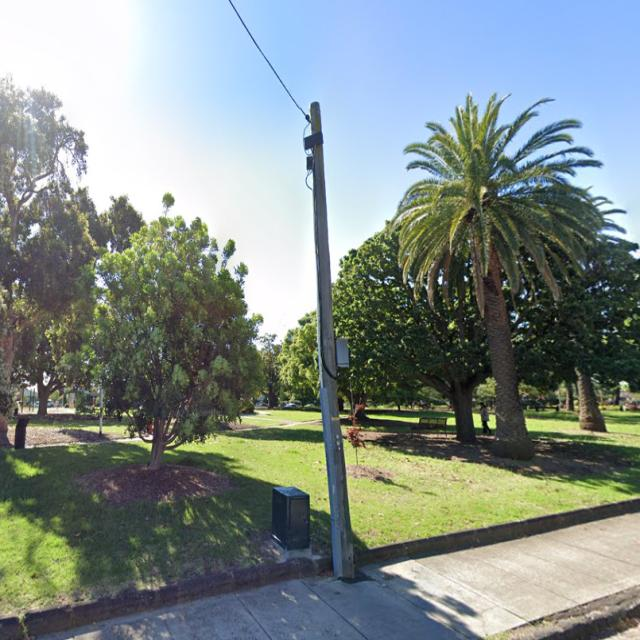timber-pole: (309, 100, 356, 581)
